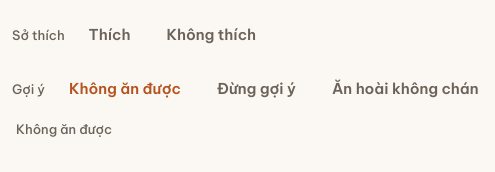
it: DishPreferenceControls (M3-T6 — nửa còn thiếu của E7-T5) › E13-T7 — cờ ghi thất bại: chỉ cờ vừa bấm rollback, hai cờ kia còn nguyên
Click the button with aria-label "Đừng gợi ý — Canh chua cá lóc" at (256, 89), box [201,66,312,112]
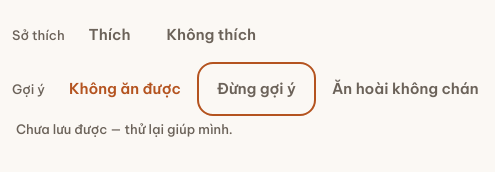
Check: the text "Chưa lưu được — thử lại giúp mình." is shown, box [16,121,233,137]
